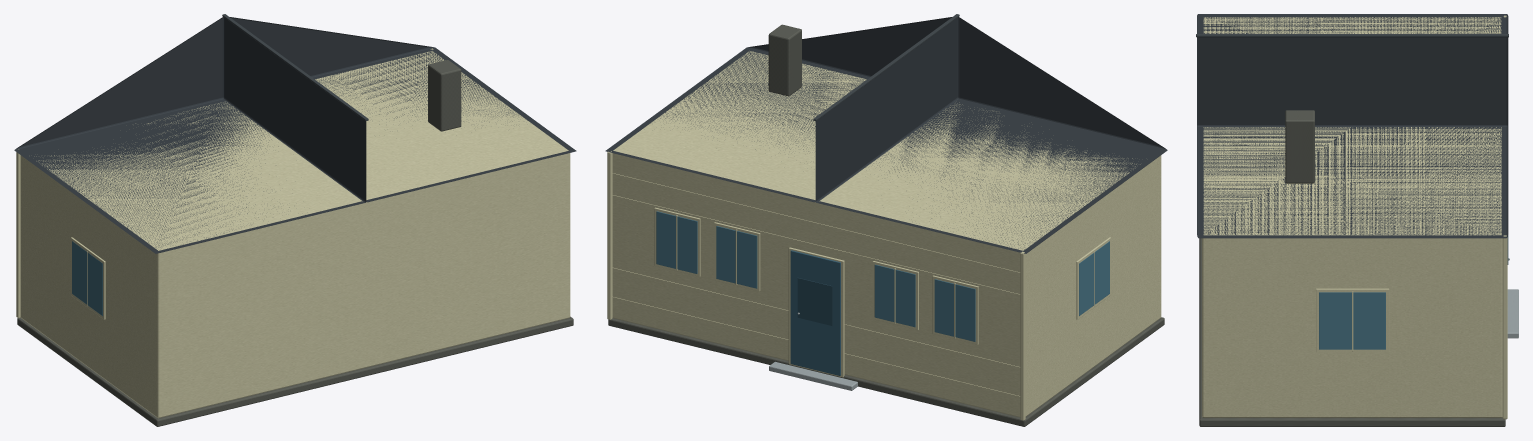
Rendered from House.gltf.
3 renders of one model, left to right at view 1: azimuth 30°, elevation 25°; view 2: azimuth 150°, elevation 25°; view 3: azimuth 270°, elevation 25°, orthographic. The views are drawn at different scales.
Parts seen in each view (by area): view 1: House__Body; view 2: House__Body; view 3: House__Body.
Boxes of the visible parts, box(x1,y1,x2,y2) form: House__Body: box(14, 14, 576, 426); House__Body: box(605, 14, 1167, 426); House__Body: box(1196, 14, 1518, 426).
Size of the model in its own units: 8.48 by 4.98 by 5.16.
6 materials, 1 textured.
